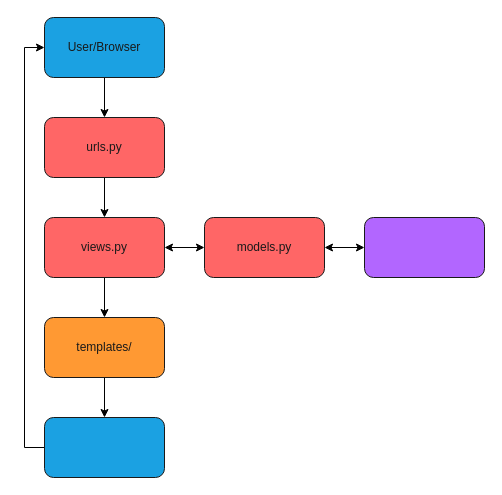
This 502x495 diagram has some shape labels left out. The shapes that lost their labels are listed below. From the top down, each one's centre as x and y in pixels, then its label:
pixel 424 247: Database
pixel 104 447: HTML Response
